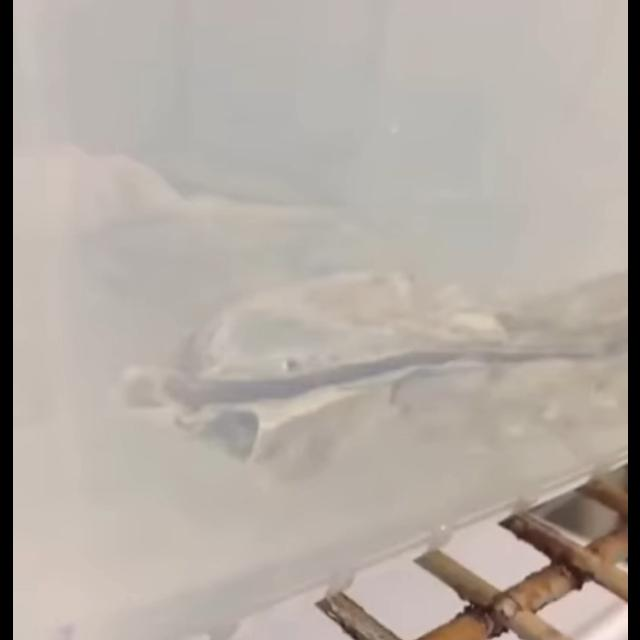Oyster-Closed: (59, 126, 354, 260)
Oyster-Open: (110, 268, 628, 490)
